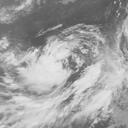cyclone: (2, 23, 115, 126)
